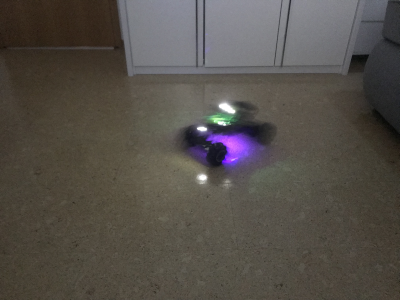remote control car: (182, 98, 279, 167)
